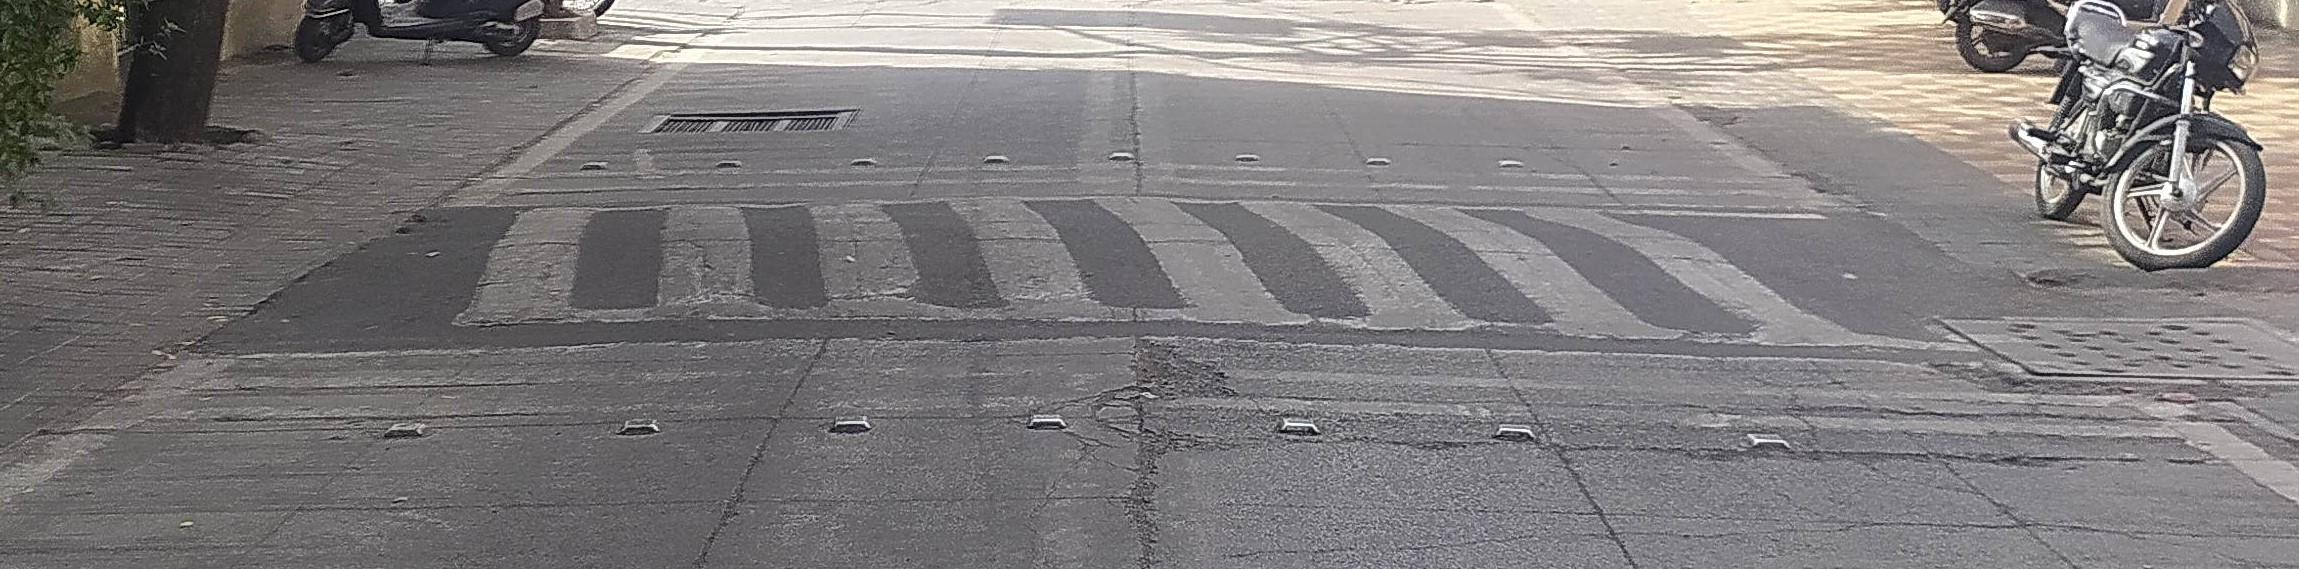speed-bump: (200, 206, 2054, 368)
